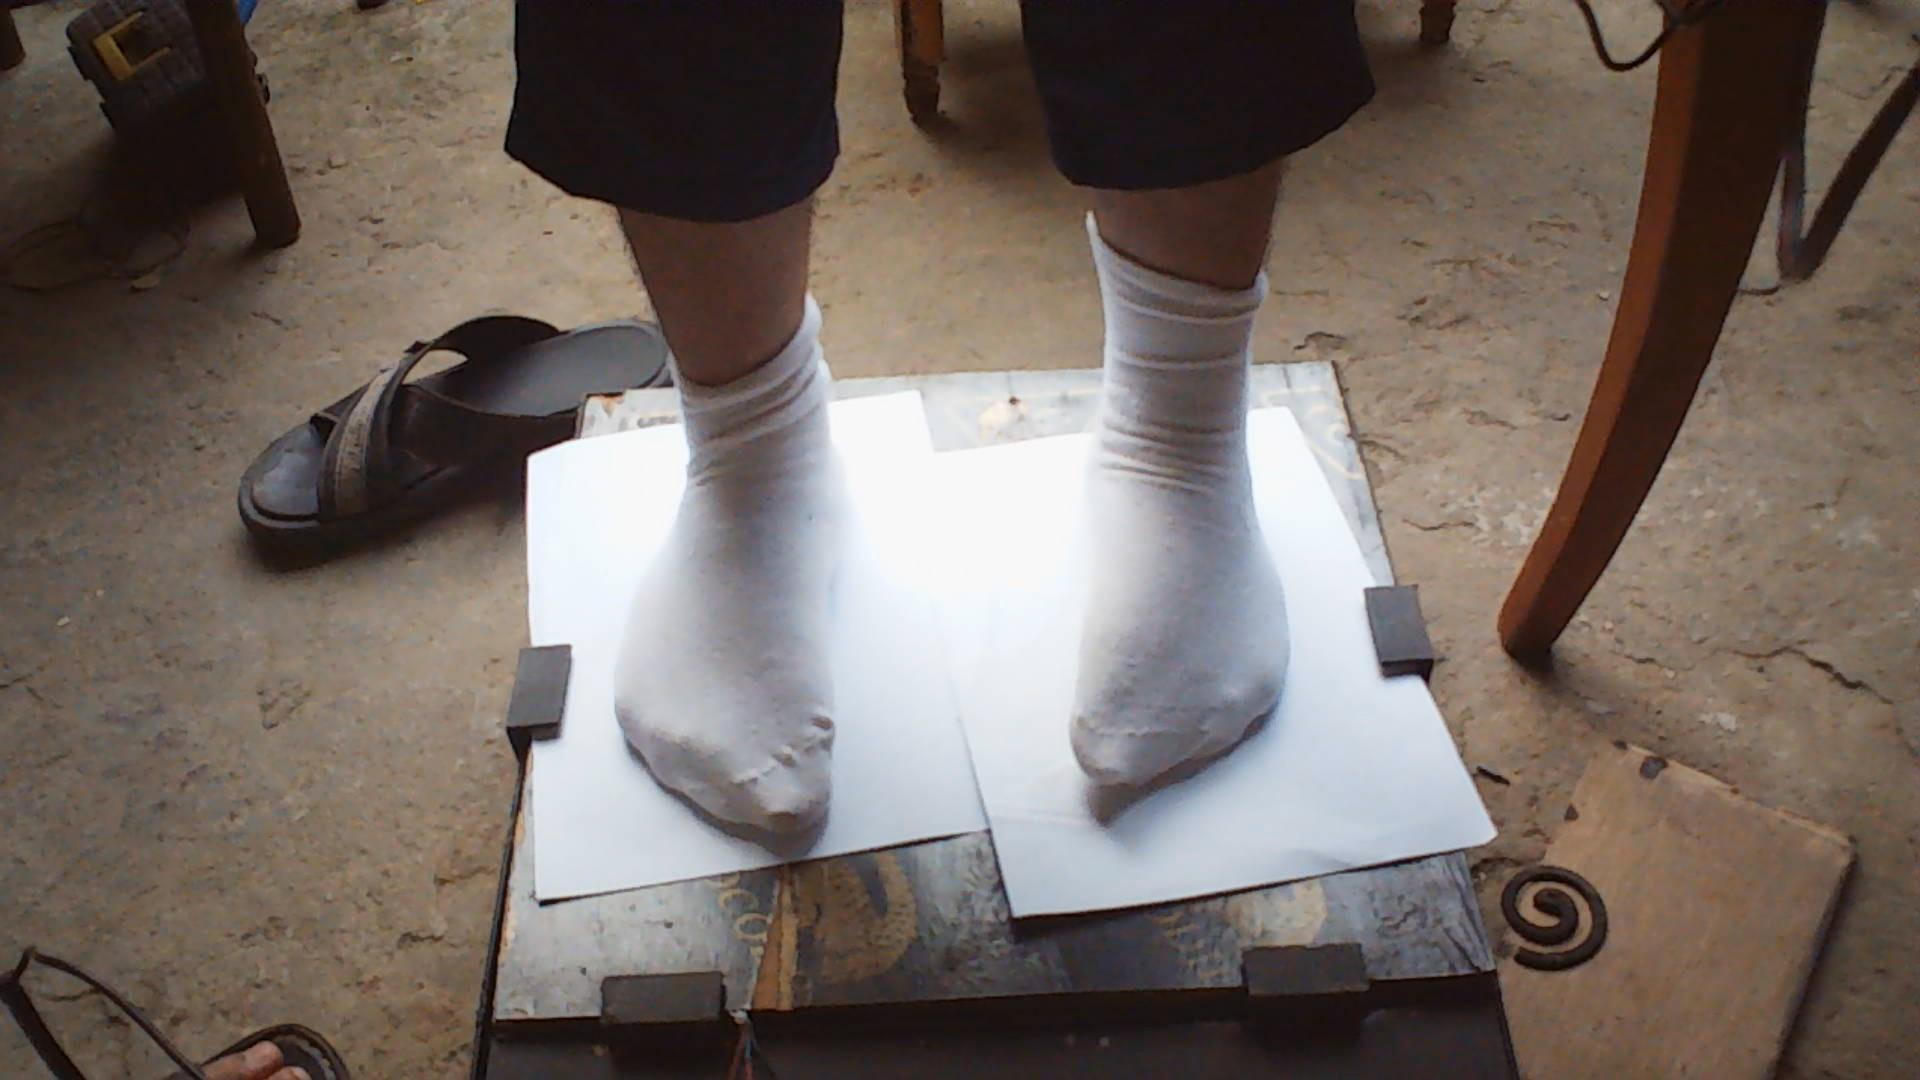white_socks: (1005, 215, 1332, 825), (572, 290, 913, 857)
